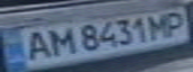1: (130, 14, 151, 43)
3: (115, 16, 136, 46)
4: (96, 18, 121, 50)
8: (75, 20, 103, 52)
A: (18, 28, 57, 62)
M: (42, 25, 78, 56), (145, 11, 175, 39)
P: (160, 8, 193, 38)
